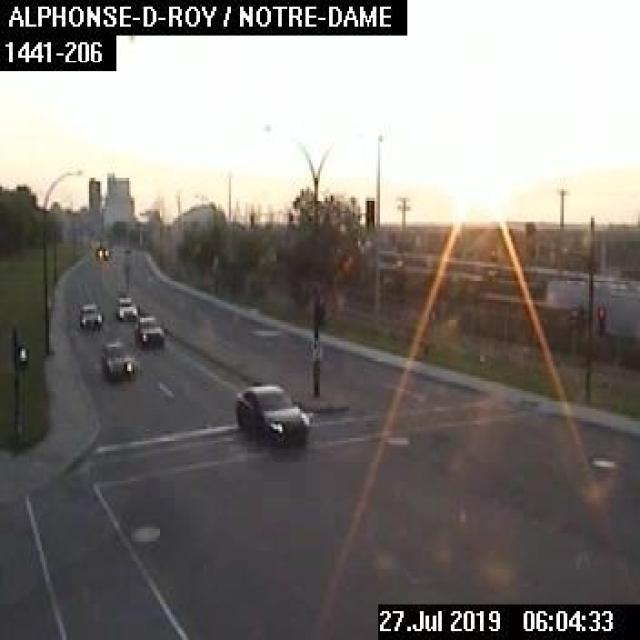vehicle: (231, 380, 311, 442), (98, 338, 142, 380), (130, 310, 164, 347), (76, 300, 104, 331), (112, 290, 137, 321), (92, 242, 110, 261)
